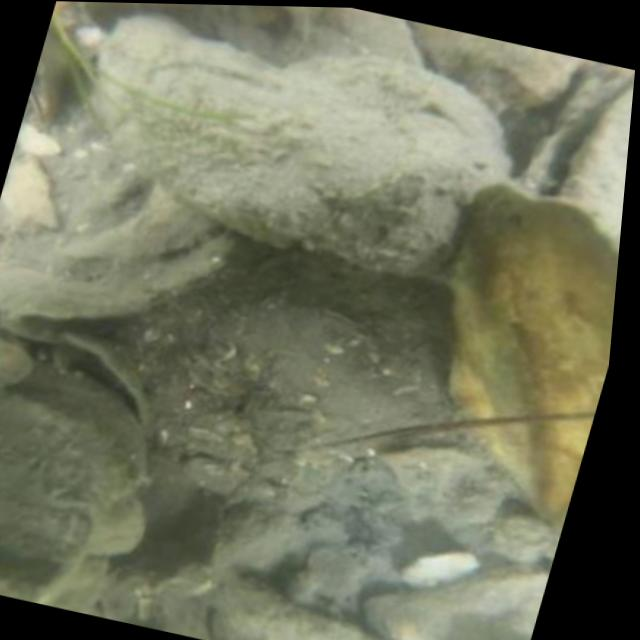Oyster-Indeterminate: (78, 9, 510, 272), (0, 100, 241, 326), (365, 567, 550, 640), (211, 575, 378, 640)
Oyster-Open: (0, 320, 152, 604), (522, 81, 634, 248)
